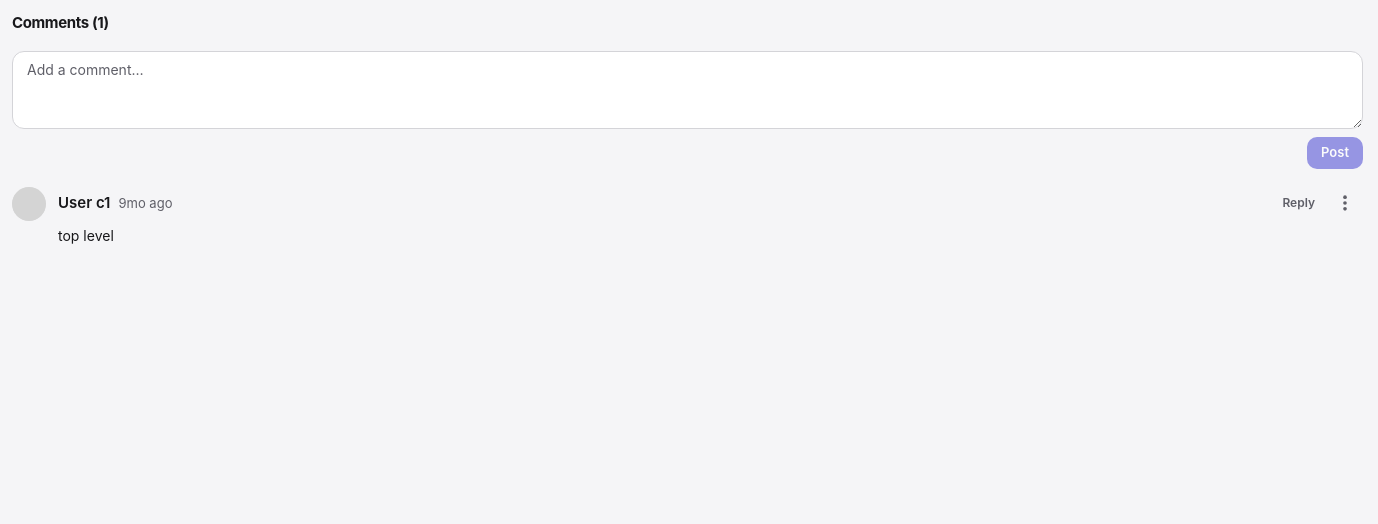
Test: CommentsSection creator pin + heart › offers Pin + Heart to a viewer who can manage comments
The image size is (1378, 524).
Click the button named "Comment actions" at (1345, 202), box [1327, 184, 1363, 220]
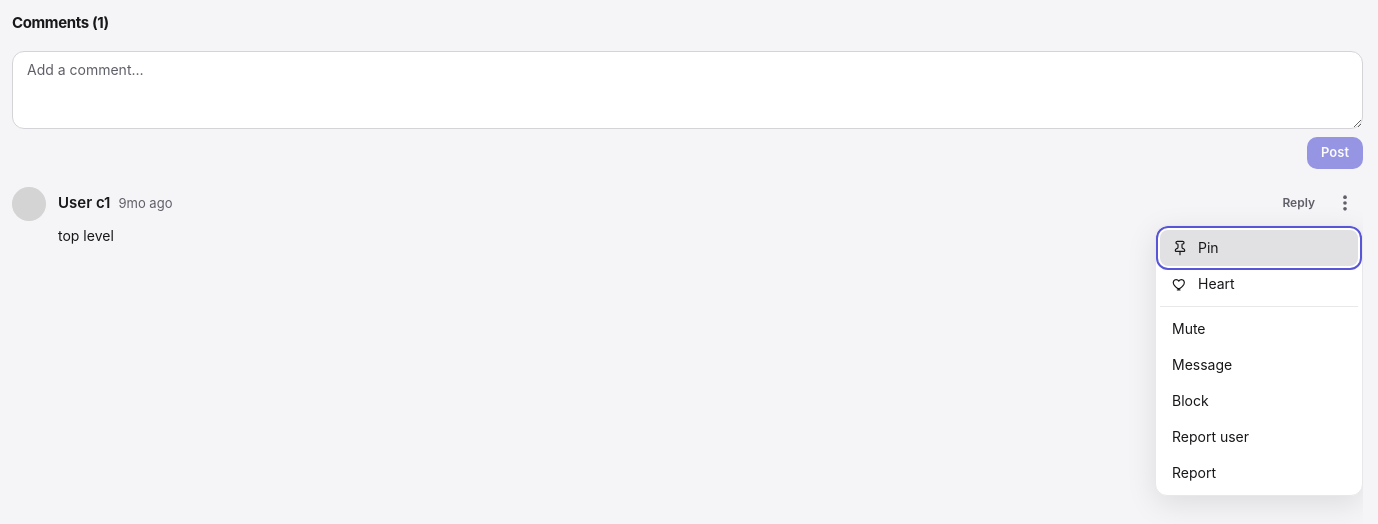
Now the menu item "Pin" is shown, box [1160, 230, 1358, 266]
Now the menu item "Heart" is shown, box [1160, 266, 1358, 302]
